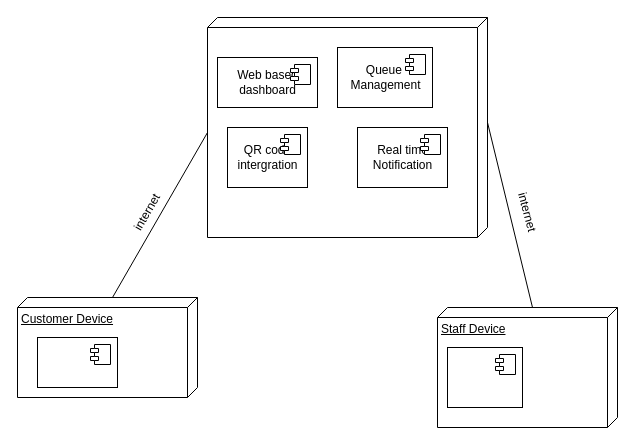
Some shapes in this 635 by 445 pixel diagram are drawn without their labels. Here are the shapes that lost their labels. From the top down, the box of each, then its label:
(206, 16, 488, 238): Resturaunt Server
(36, 336, 118, 388): Data entry
(446, 346, 522, 408): Dashboard
